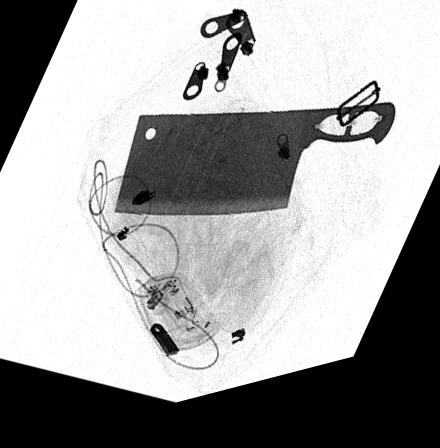Knife: (111, 121, 395, 227)
